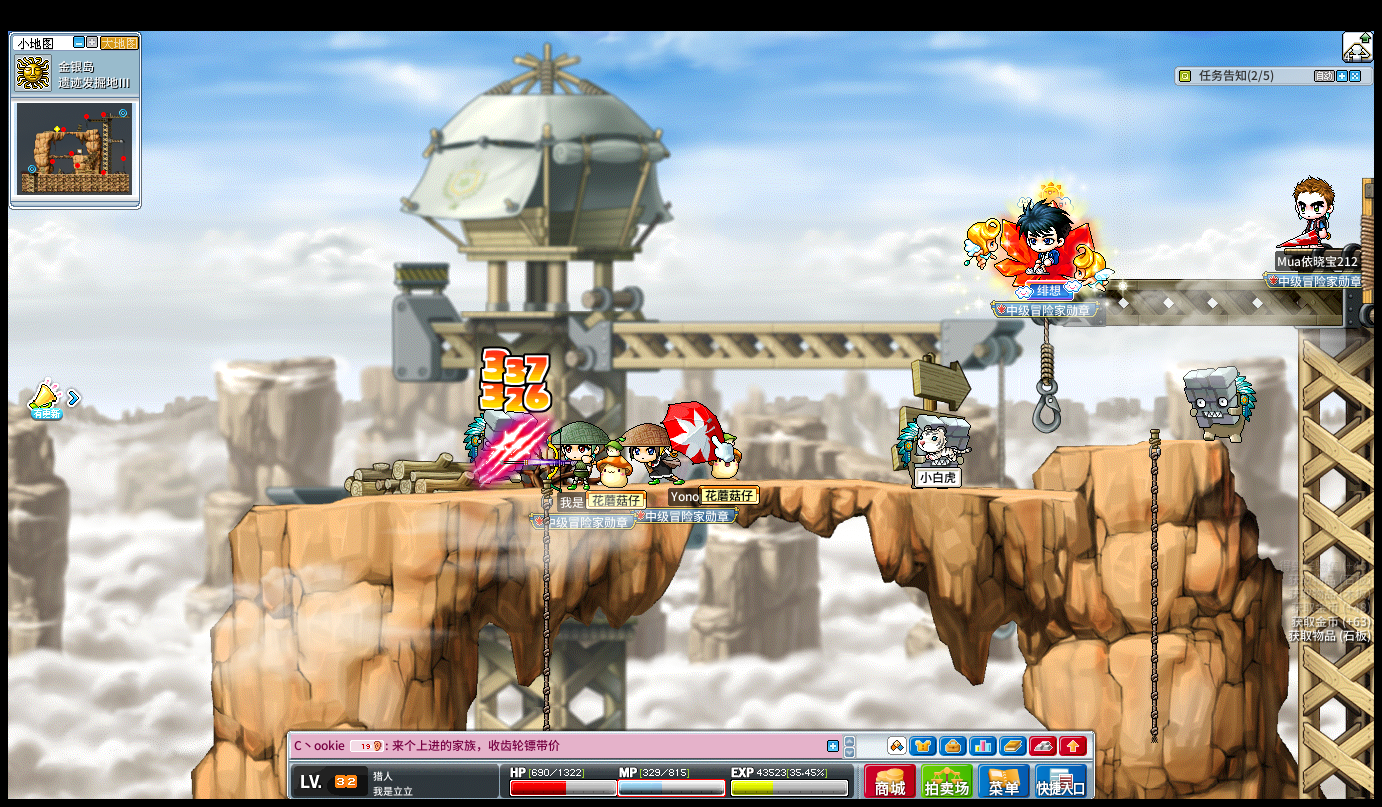floor: (212, 475, 1126, 497), (1055, 438, 1226, 453), (1054, 435, 1221, 450)
monster: (896, 414, 972, 491), (1182, 366, 1256, 442), (462, 409, 526, 490)
rope: (1145, 424, 1161, 747), (539, 480, 551, 689)
